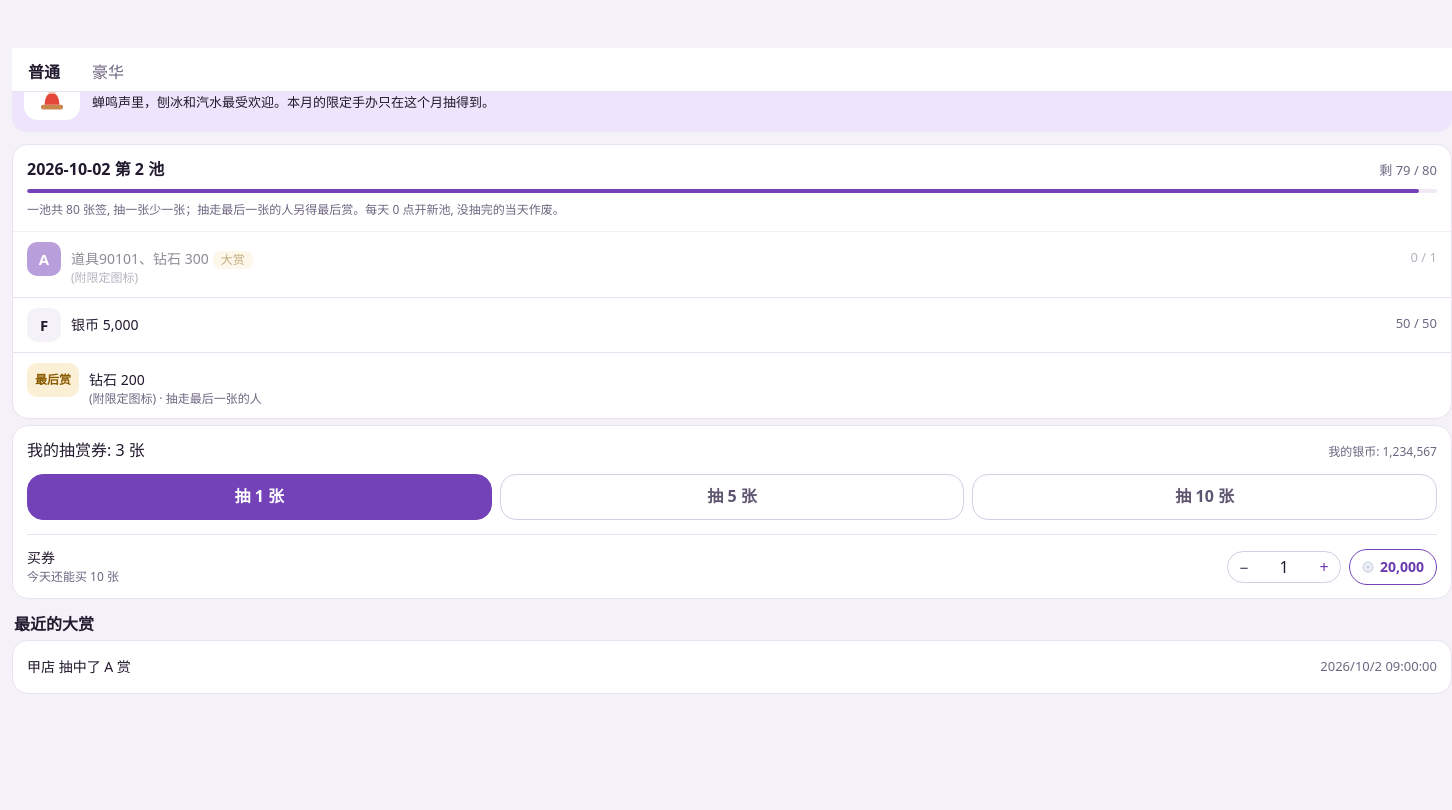
it: backlog 一番赏：页面 › 买券数量填小数：步进器取整，不会按小数下单
Replace the text in the number field with test id "kj-buy-num" with "2.5": (1284, 566) left=1260, top=552, right=1308, bottom=582
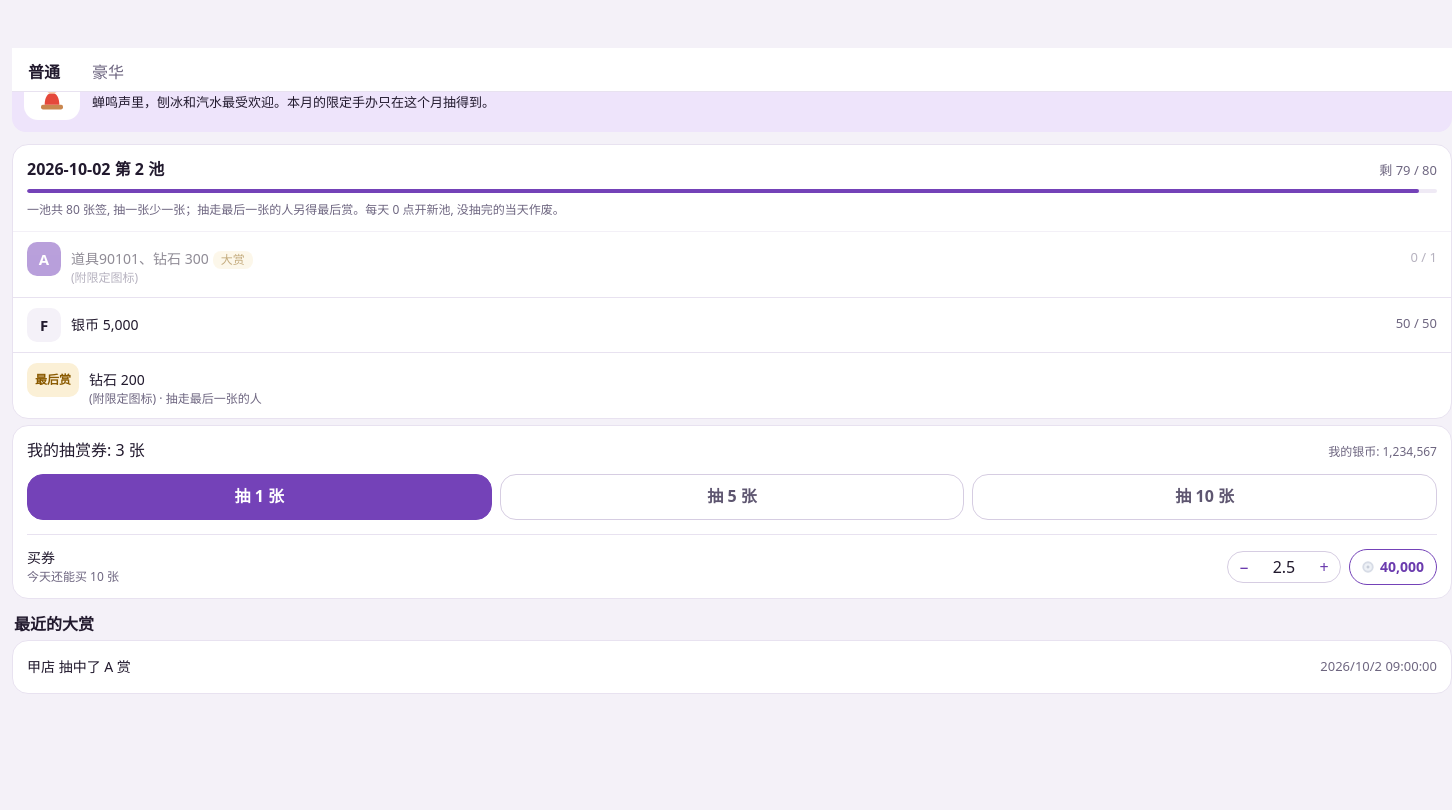
Expected: the button with test id "kj-buy" reads "40,000", left=1349, top=548, right=1437, bottom=584
Leave the number field with test id "kj-buy-num", box left=1260, top=552, right=1308, bottom=582
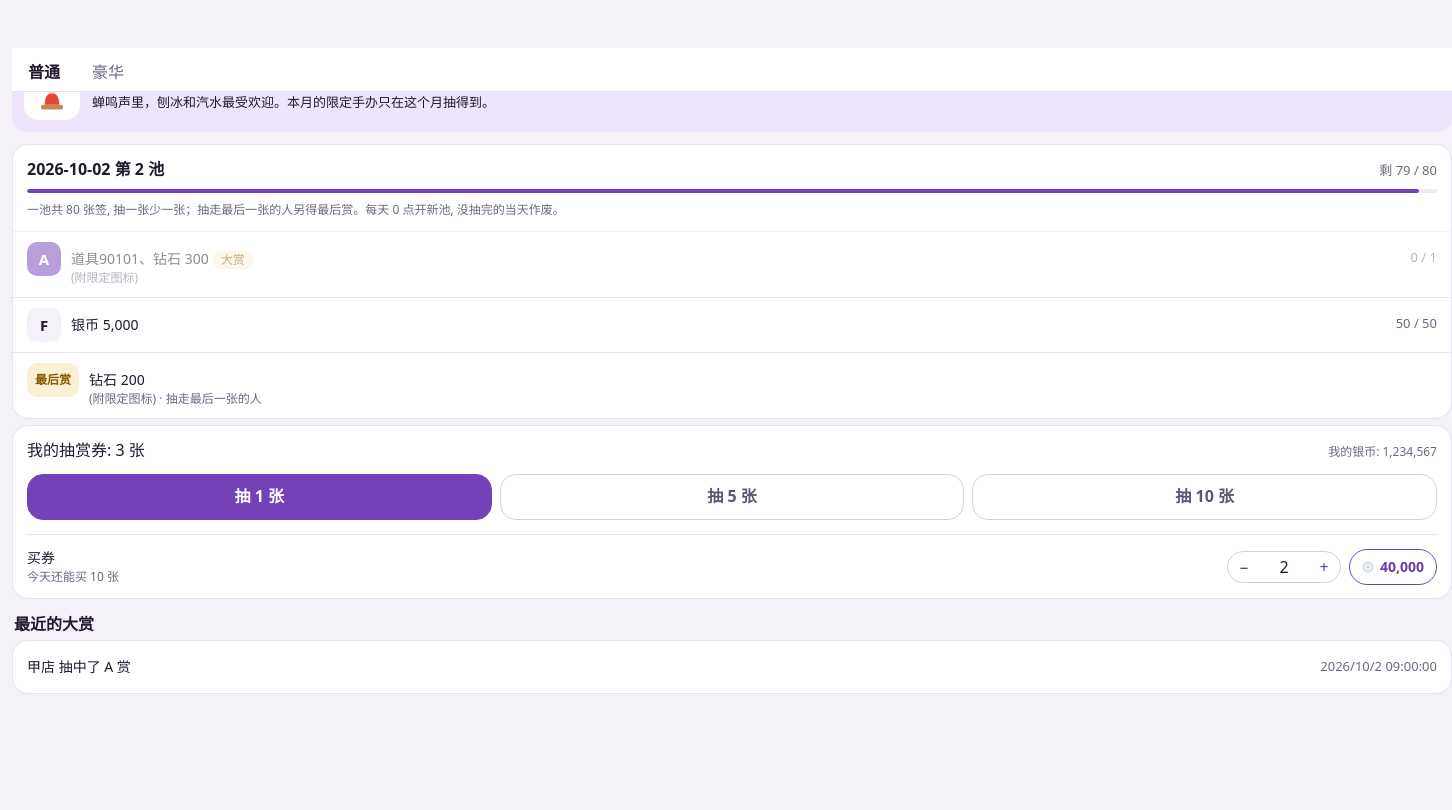
Expected: the number field with test id "kj-buy-num" holds "2", left=1260, top=552, right=1308, bottom=582
